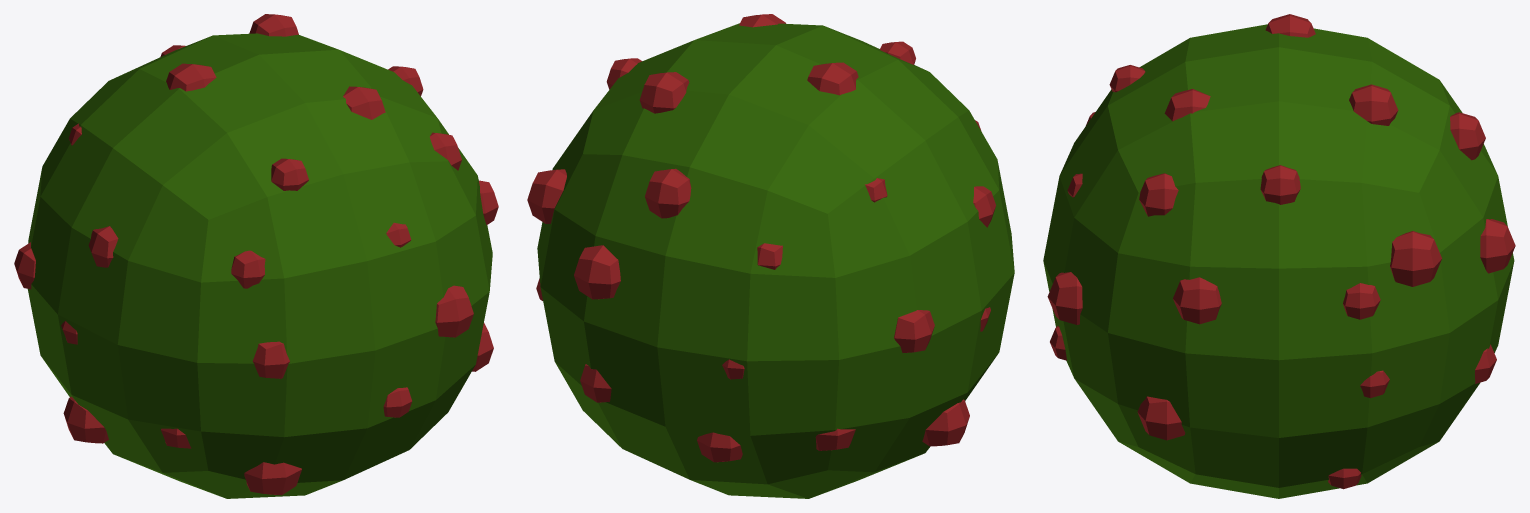
Rendered from Berry Bush.fbx.
3 views of the same model, side by side, from view 1: azimuth 30°, elevation 25°; view 2: azimuth 150°, elevation 25°; view 3: azimuth 270°, elevation 25° (orthographic). The views are drawn at different scales.
Parts seen in each view (by area): view 1: Leaf Base.012, Berries; view 2: Leaf Base.012, Berries; view 3: Leaf Base.012, Berries.
Boxes of the visible parts, x1,y1,x2,y2 form: Leaf Base.012: (27,33,492,498); Berries: (14,14,498,495); Leaf Base.012: (537,23,1014,498); Berries: (527,14,995,462); Leaf Base.012: (1043,24,1514,498); Berries: (1047,14,1515,489).
Bounding box in the file's own units: 841 × 842 × 842.
